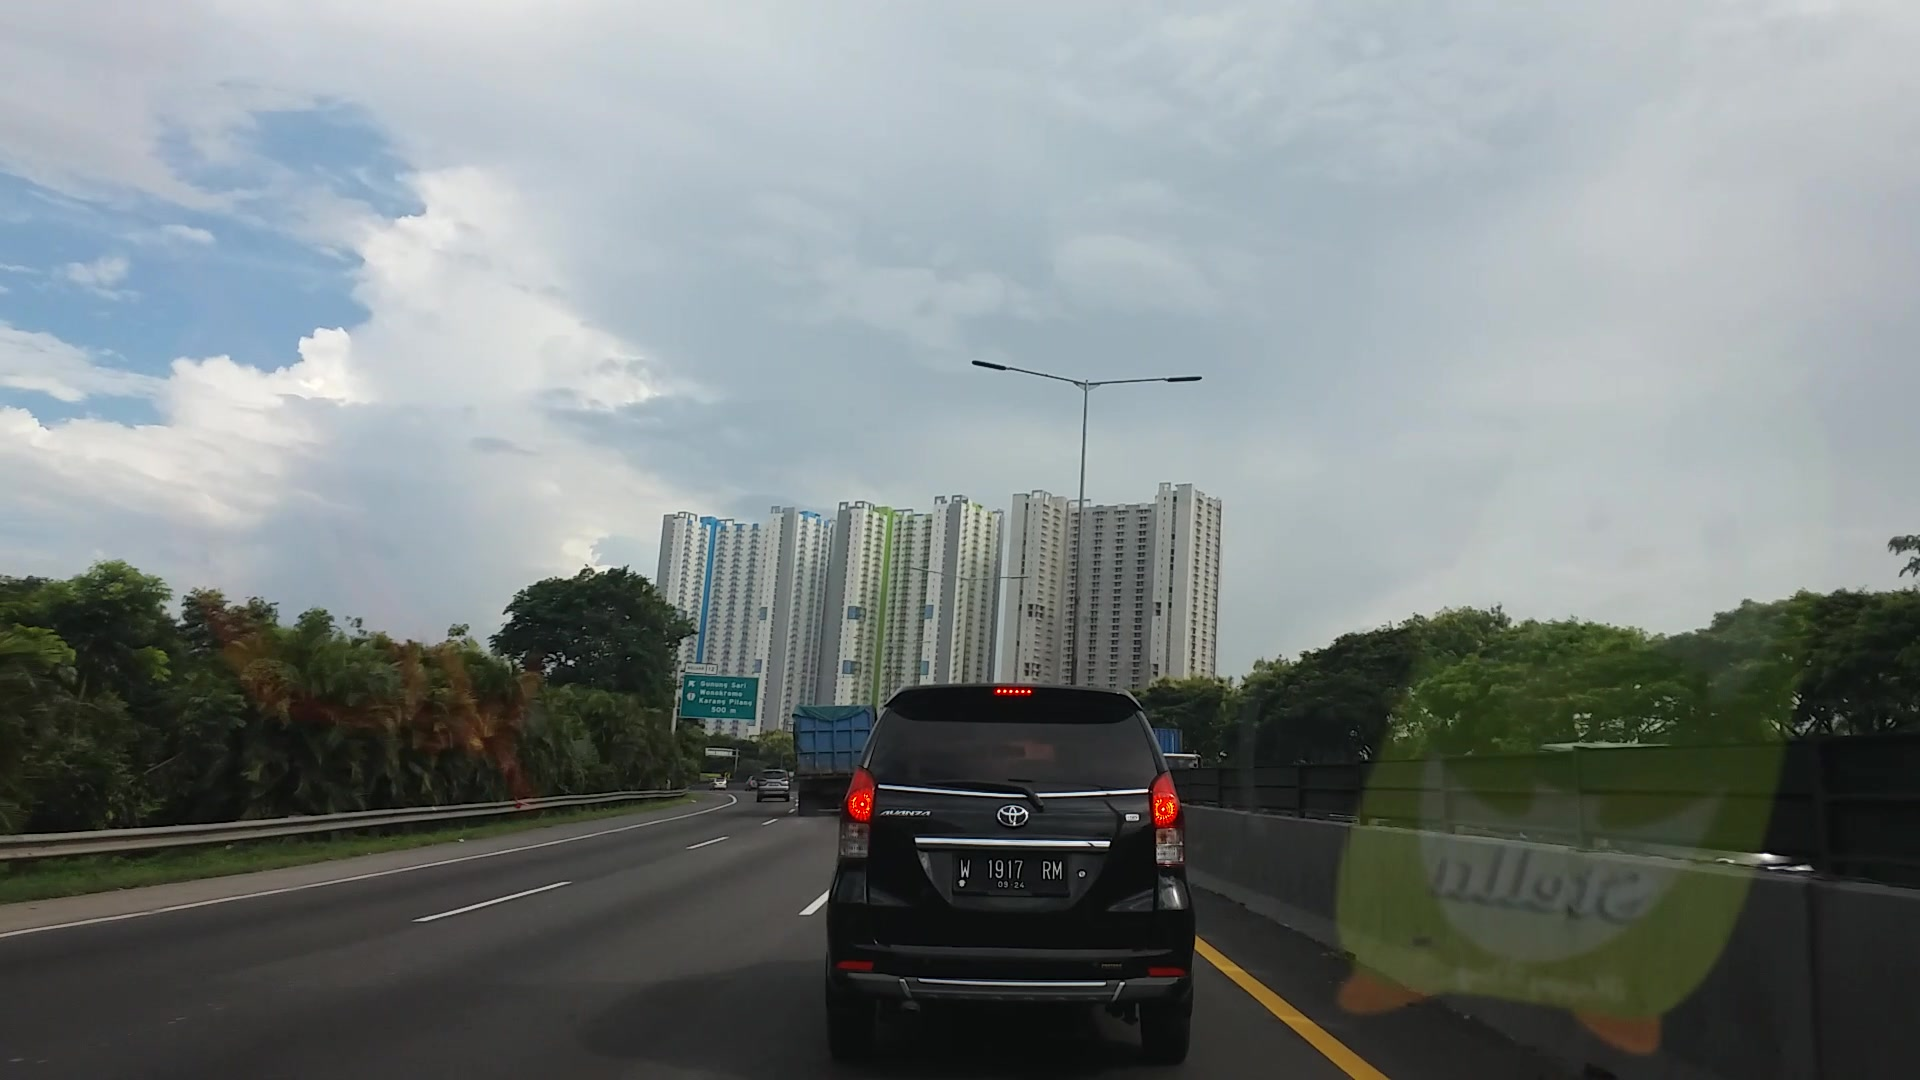plate_positive: (953, 853, 1067, 891)
